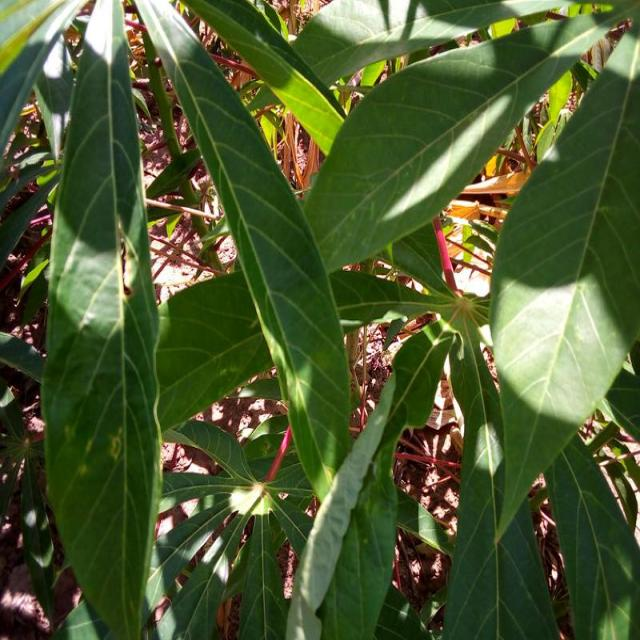cassava leaf: (7, 1, 638, 638), (135, 0, 355, 505), (302, 4, 634, 275), (487, 15, 640, 543), (41, 1, 165, 637)
